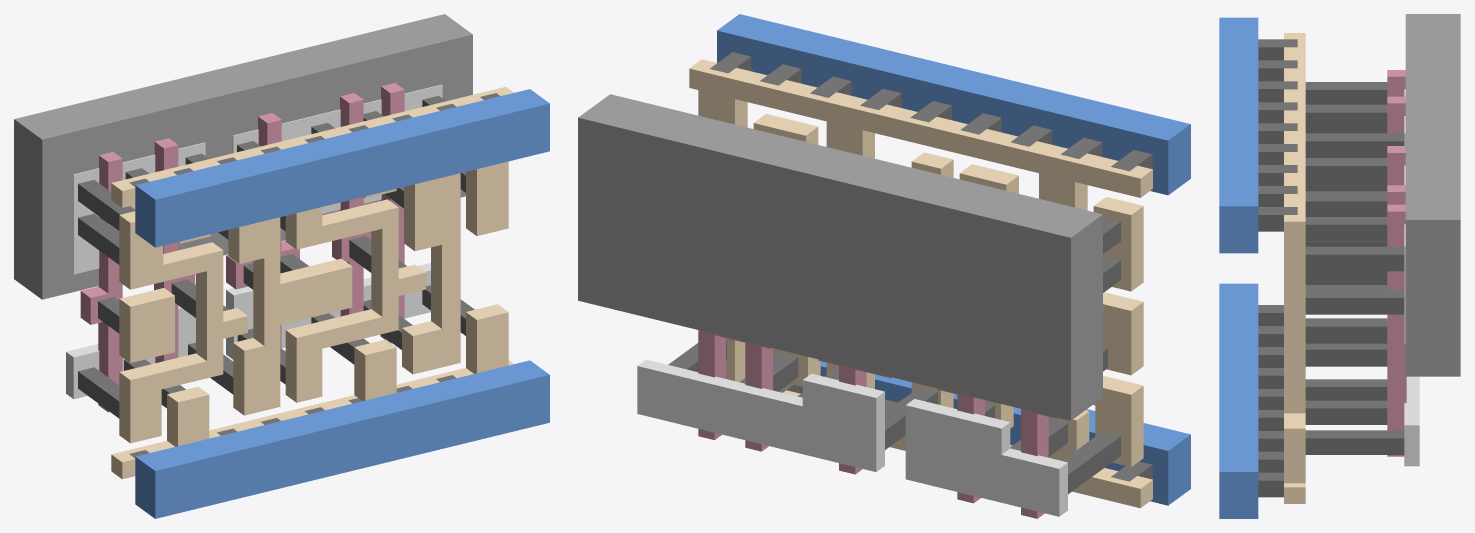
Rendered from sky130_fd_sc_hd__clkdlybuf4s15_2.gds.gltf.
The picture shows the model from 3 angles, left to right: view 1: azimuth 30°, elevation 25°; view 2: azimuth 150°, elevation 25°; view 3: azimuth 270°, elevation 25°; orthographic projection. The views are drawn at different scales.
Visible parts, largest first — view 1: sky130_fd_sc_hd__clkdlybuf4s15_2_li1, sky130_fd_sc_hd__clkdlybuf4s15_2_met1, sky130_fd_sc_hd__clkdlybuf4s15_2_nwell, sky130_fd_sc_hd__clkdlybuf4s15_2_licon, sky130_fd_sc_hd__clkdlybuf4s15_2_poly, sky130_fd_sc_hd__clkdlybuf4s15_2_diff, sky130_fd_sc_hd__clkdlybuf4s15_2_mcon; view 2: sky130_fd_sc_hd__clkdlybuf4s15_2_nwell, sky130_fd_sc_hd__clkdlybuf4s15_2_li1, sky130_fd_sc_hd__clkdlybuf4s15_2_diff, sky130_fd_sc_hd__clkdlybuf4s15_2_met1, sky130_fd_sc_hd__clkdlybuf4s15_2_licon, sky130_fd_sc_hd__clkdlybuf4s15_2_mcon, sky130_fd_sc_hd__clkdlybuf4s15_2_poly; view 3: sky130_fd_sc_hd__clkdlybuf4s15_2_licon, sky130_fd_sc_hd__clkdlybuf4s15_2_nwell, sky130_fd_sc_hd__clkdlybuf4s15_2_met1, sky130_fd_sc_hd__clkdlybuf4s15_2_mcon, sky130_fd_sc_hd__clkdlybuf4s15_2_li1, sky130_fd_sc_hd__clkdlybuf4s15_2_poly, sky130_fd_sc_hd__clkdlybuf4s15_2_diff.
Boxes of the visible parts, x1,y1,x2,y2 form: sky130_fd_sc_hd__clkdlybuf4s15_2_li1: (111, 86, 513, 479); sky130_fd_sc_hd__clkdlybuf4s15_2_met1: (135, 89, 549, 518); sky130_fd_sc_hd__clkdlybuf4s15_2_nwell: (14, 14, 472, 299); sky130_fd_sc_hd__clkdlybuf4s15_2_licon: (78, 95, 474, 418); sky130_fd_sc_hd__clkdlybuf4s15_2_poly: (80, 83, 404, 412); sky130_fd_sc_hd__clkdlybuf4s15_2_diff: (66, 84, 442, 399); sky130_fd_sc_hd__clkdlybuf4s15_2_mcon: (129, 93, 500, 457); sky130_fd_sc_hd__clkdlybuf4s15_2_nwell: (578, 94, 1102, 420); sky130_fd_sc_hd__clkdlybuf4s15_2_li1: (689, 59, 1152, 508); sky130_fd_sc_hd__clkdlybuf4s15_2_diff: (637, 359, 1067, 516); sky130_fd_sc_hd__clkdlybuf4s15_2_met1: (717, 14, 1190, 505); sky130_fd_sc_hd__clkdlybuf4s15_2_licon: (668, 217, 1120, 494); sky130_fd_sc_hd__clkdlybuf4s15_2_mcon: (710, 52, 1152, 481); sky130_fd_sc_hd__clkdlybuf4s15_2_poly: (698, 330, 1058, 518); sky130_fd_sc_hd__clkdlybuf4s15_2_licon: (1305, 82, 1404, 454); sky130_fd_sc_hd__clkdlybuf4s15_2_nwell: (1405, 14, 1460, 376); sky130_fd_sc_hd__clkdlybuf4s15_2_met1: (1219, 17, 1258, 518); sky130_fd_sc_hd__clkdlybuf4s15_2_mcon: (1258, 39, 1297, 497); sky130_fd_sc_hd__clkdlybuf4s15_2_li1: (1284, 33, 1305, 503); sky130_fd_sc_hd__clkdlybuf4s15_2_poly: (1387, 70, 1406, 456); sky130_fd_sc_hd__clkdlybuf4s15_2_diff: (1404, 89, 1419, 466).
Size of the model in its own units: 4.52 by 3.2 by 2.24.
